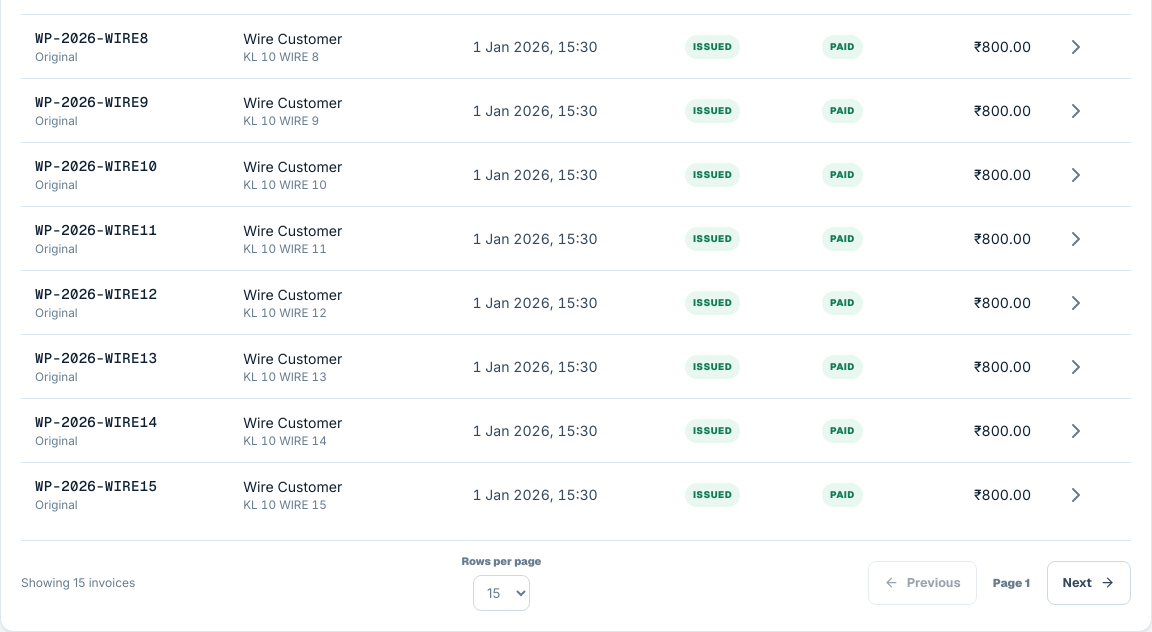
Invoices directory — real API envelope contract › disables Next when the API reports no further pages
(page scrolled)
Step 1. Click the button "Next" → [1089, 583], box [1047,561,1131,605]
(page scrolled)
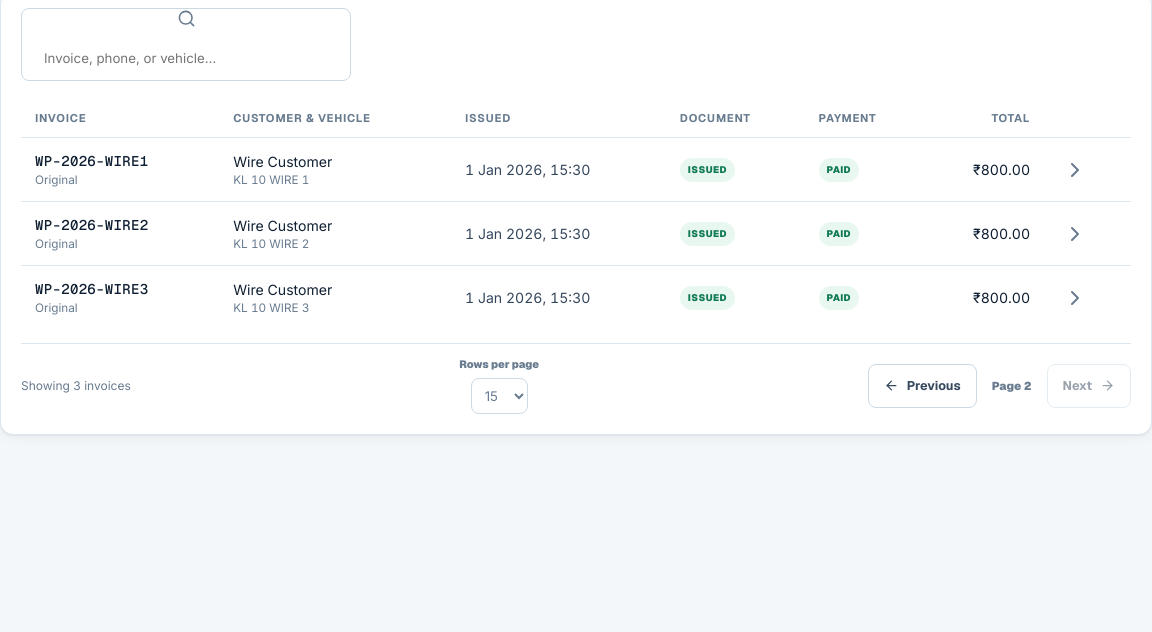
Expected: the text "Showing 3 invoices" is shown, [21,378,131,393]
Expected: the text "Page 2" is shown, [992,378,1032,393]
Expected: the button "Next" is disabled, [1047,364,1131,408]
